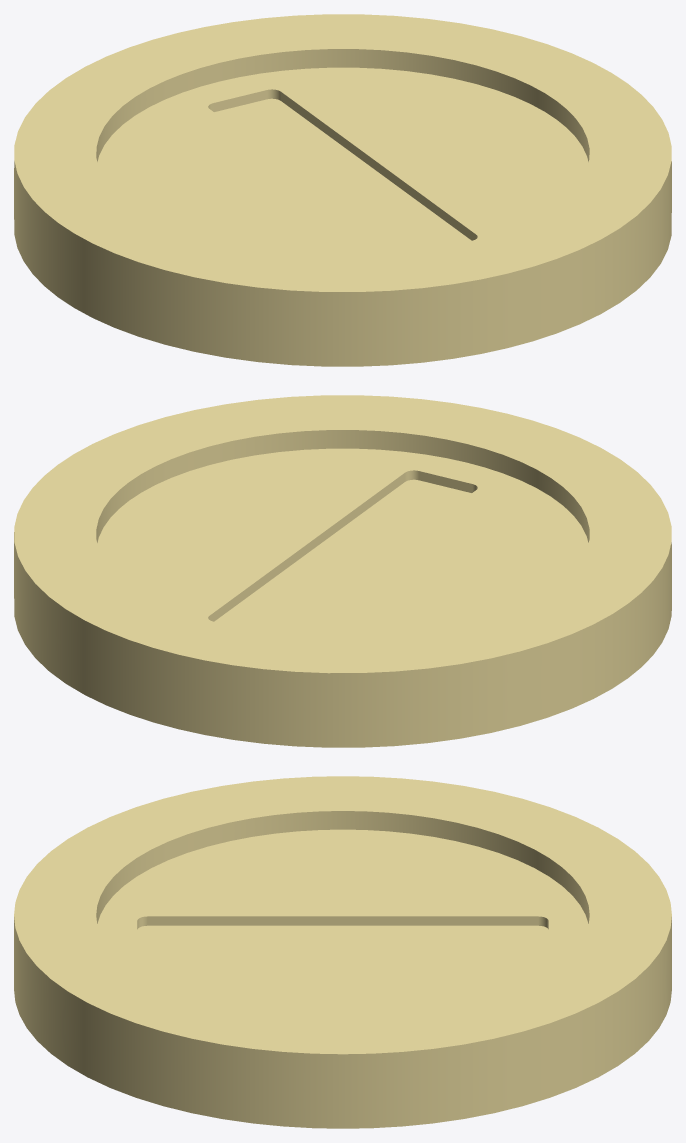
Rendered from Coin.fbx.
3 renders of one model, top to bottom at view 1: azimuth 30°, elevation 25°; view 2: azimuth 150°, elevation 25°; view 3: azimuth 270°, elevation 25°, orthographic.
Visible parts, largest first — view 1: Body1; view 2: Body1; view 3: Body1.
Part boxes in pixels (left/top/right/bottom): Body1: left=14, top=14, right=671, bottom=366; Body1: left=14, top=395, right=671, bottom=747; Body1: left=14, top=776, right=671, bottom=1128.
Bounding box in the file's own units: 160 × 20 × 160.
